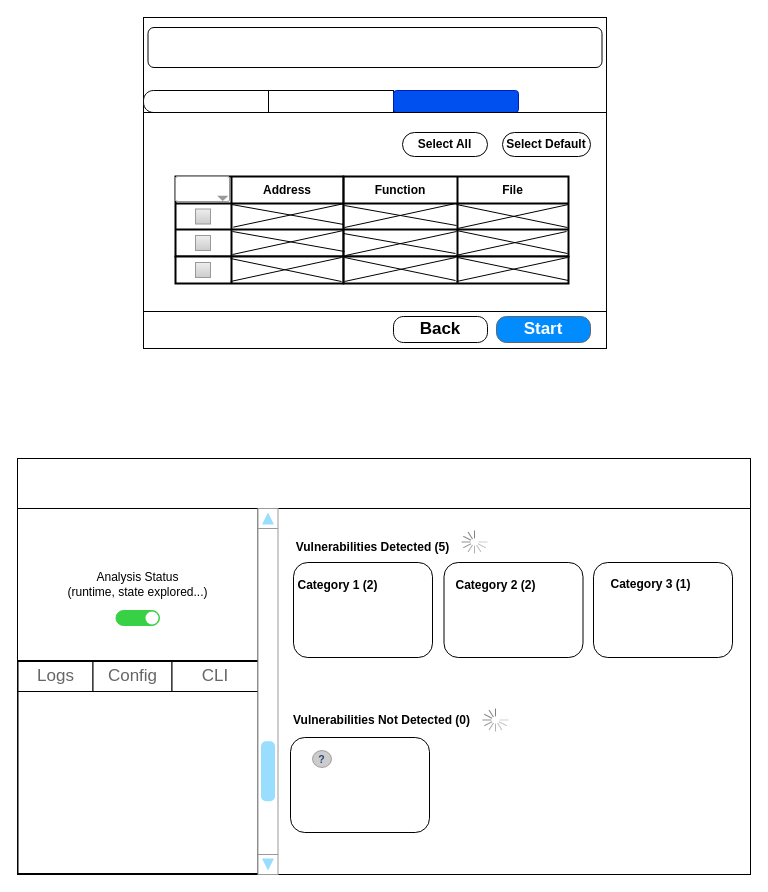
This 768x892 diagram has some shape labels left out. Here are the shapes that lost their labels. From the top down, the centre of each, then its label:
At pixel 374 47: "Configure Analysis on <filename>".
At pixel 205 101: "General".
At pixel 331 101: "Shared Objects".
At pixel 455 101: "Entrypoints".
At pixel 383 483: "Analyzing <filename>".
At pixel 137 782: "Log, Config, or CLI Information".
